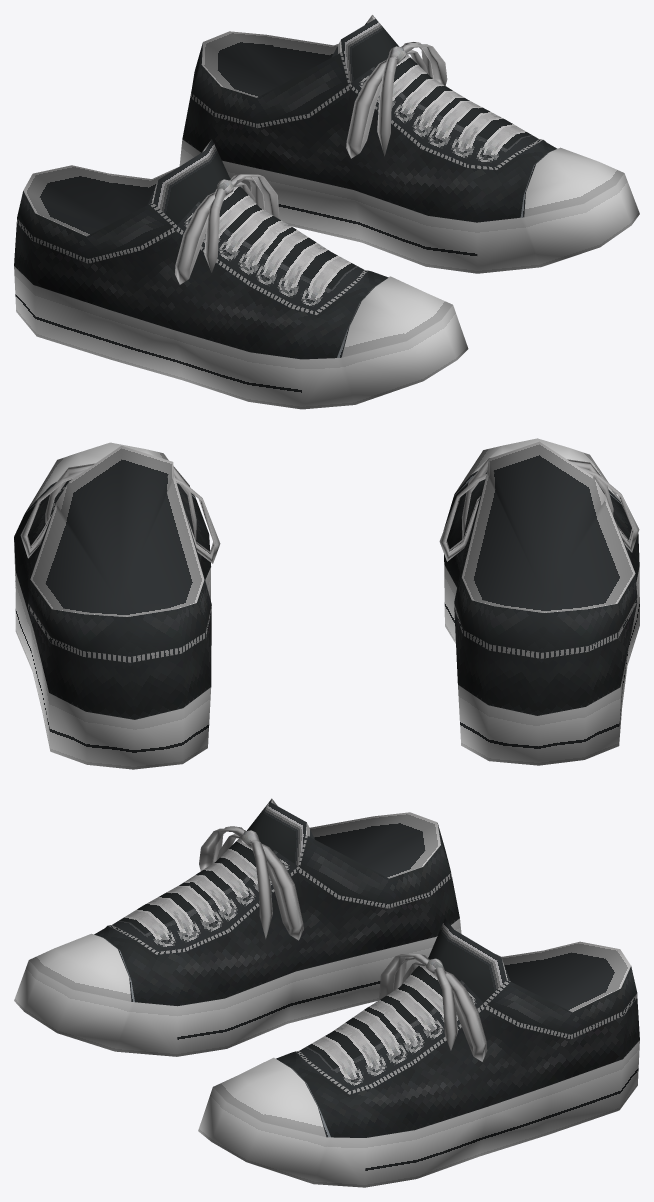
3 views of the same model, one above another, from view 1: azimuth 30°, elevation 25°; view 2: azimuth 150°, elevation 25°; view 3: azimuth 270°, elevation 25° (orthographic). The views are drawn at different scales.
Parts seen in each view (by area): view 1: node_id30; view 2: node_id30; view 3: node_id30.
Part boxes in pixels (<box>): node_id30: <box>14,15,639,409</box>; node_id30: <box>14,438,639,769</box>; node_id30: <box>14,798,639,1187</box>.
Size of the model in its own units: 0.6036 by 0.2112 by 0.6093.
1 material, 1 textured.
